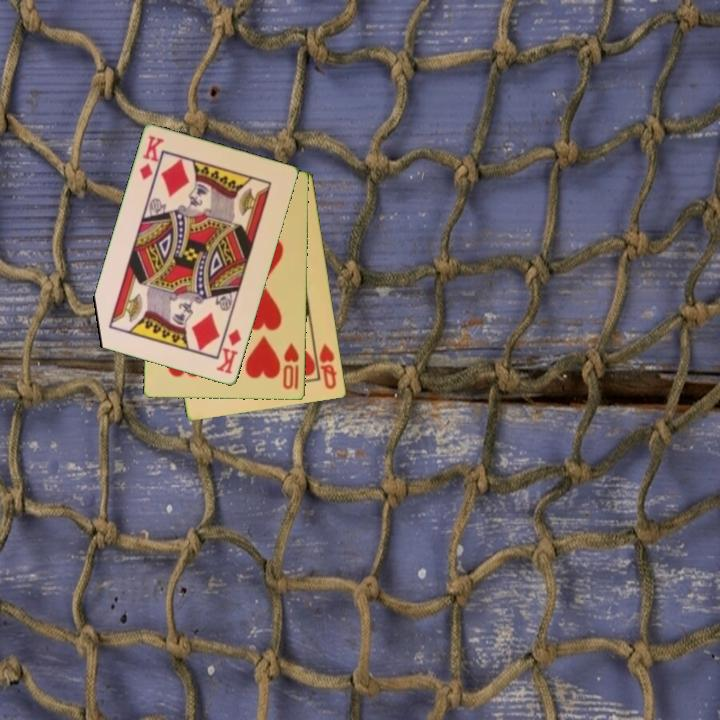10h: (280, 340, 302, 393)
Kd: (213, 326, 245, 377), (136, 132, 167, 183)
Qh: (316, 340, 340, 392)
